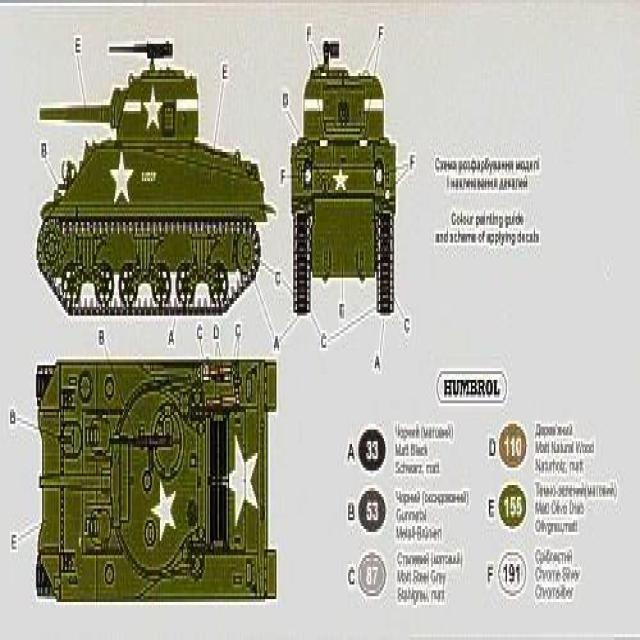Tanks: (12, 44, 275, 333), (19, 350, 286, 610), (285, 29, 413, 342)
